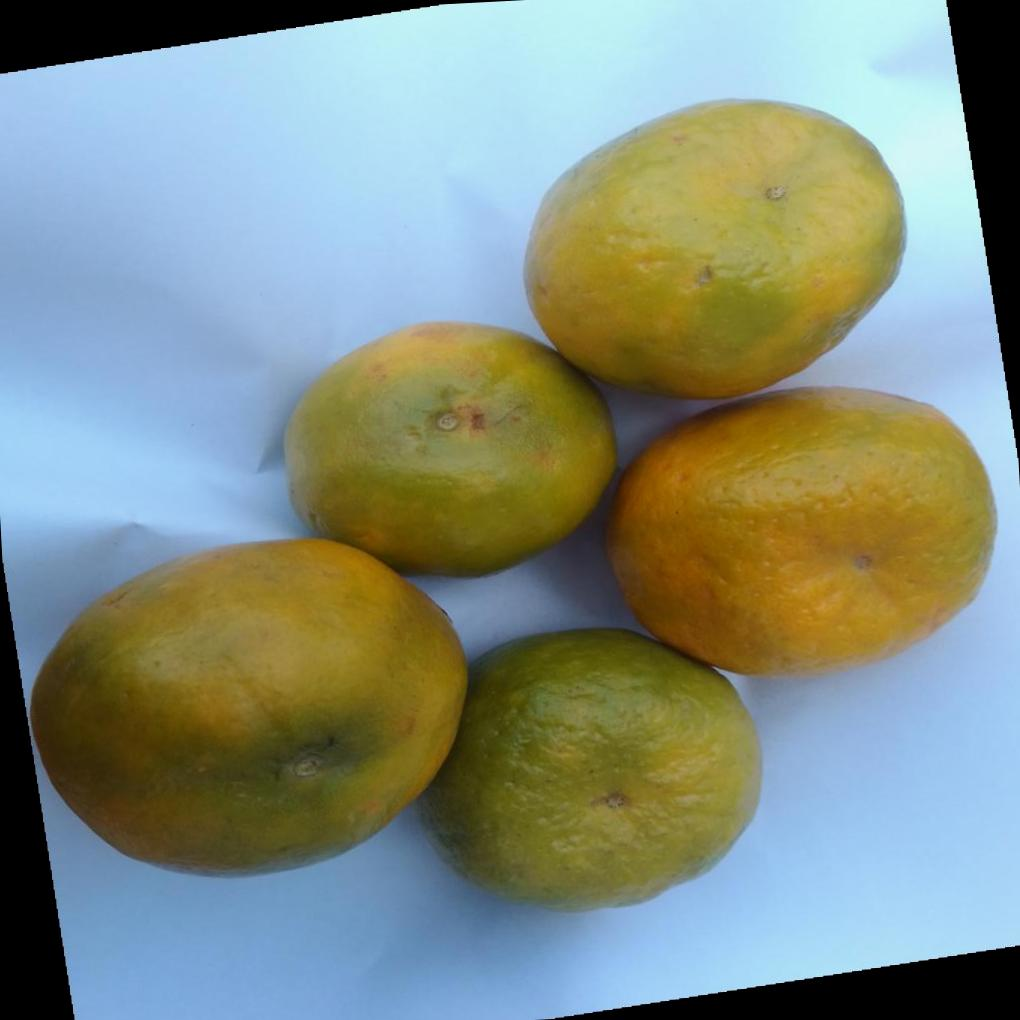FreshGuava: (29, 95, 1001, 910)
